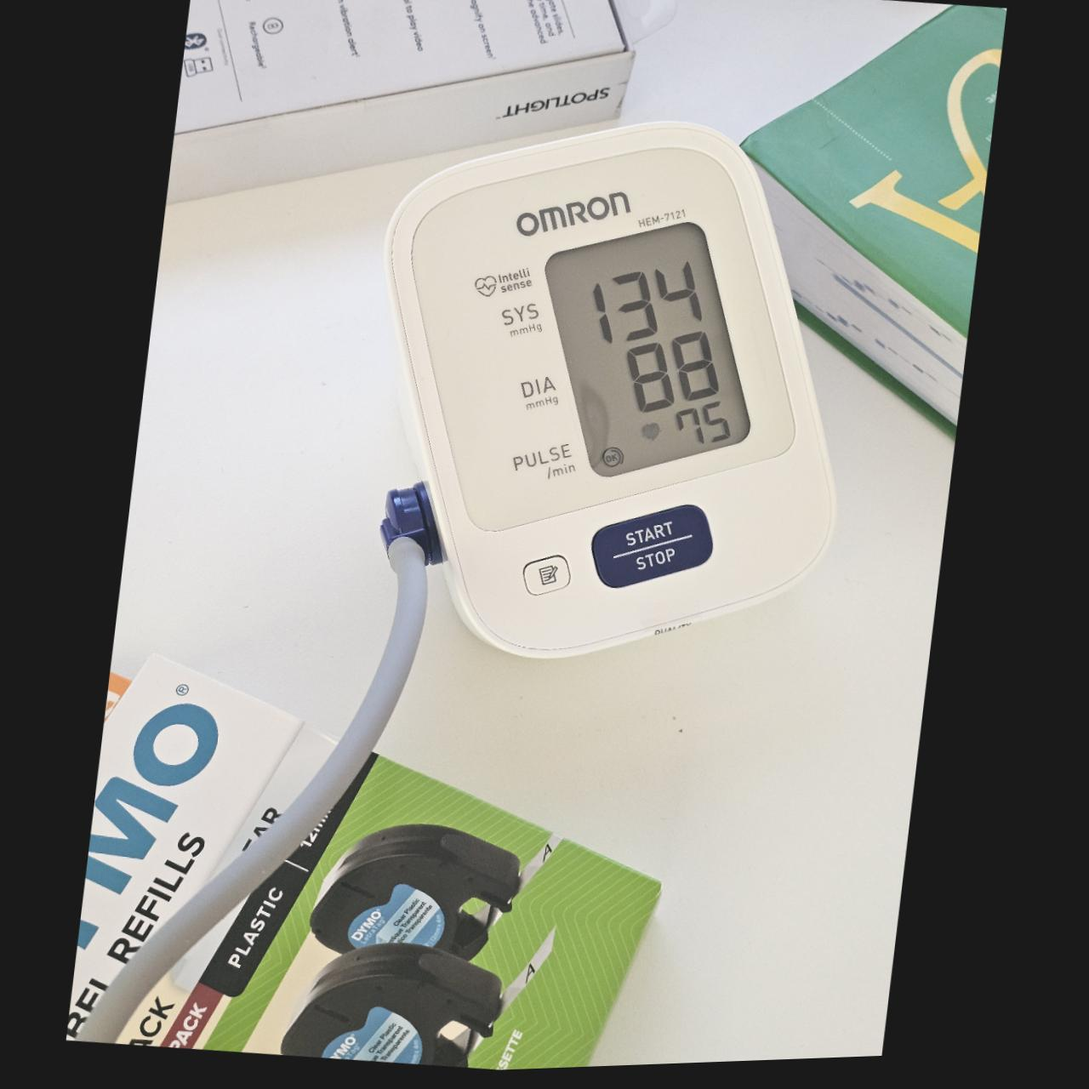lcd display: (518, 202, 779, 499)
